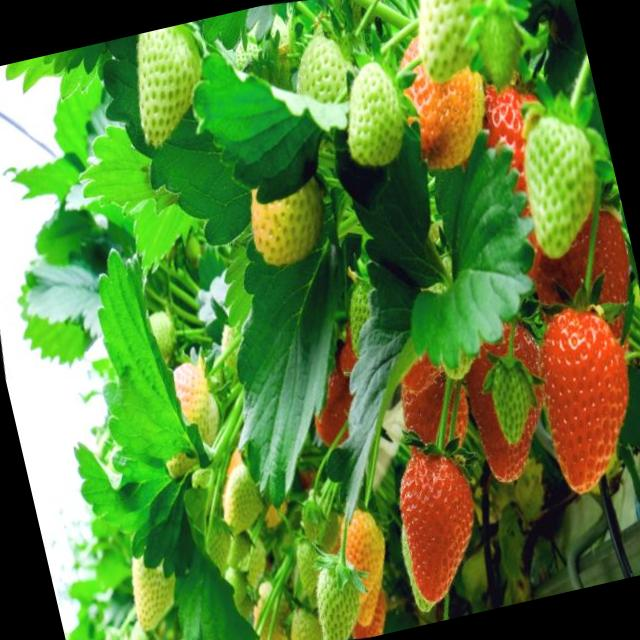ripe: (519, 296, 640, 505), (464, 72, 570, 276), (448, 318, 568, 495), (378, 431, 498, 607), (554, 196, 640, 347), (390, 355, 478, 466), (300, 364, 368, 457), (330, 328, 366, 382)
